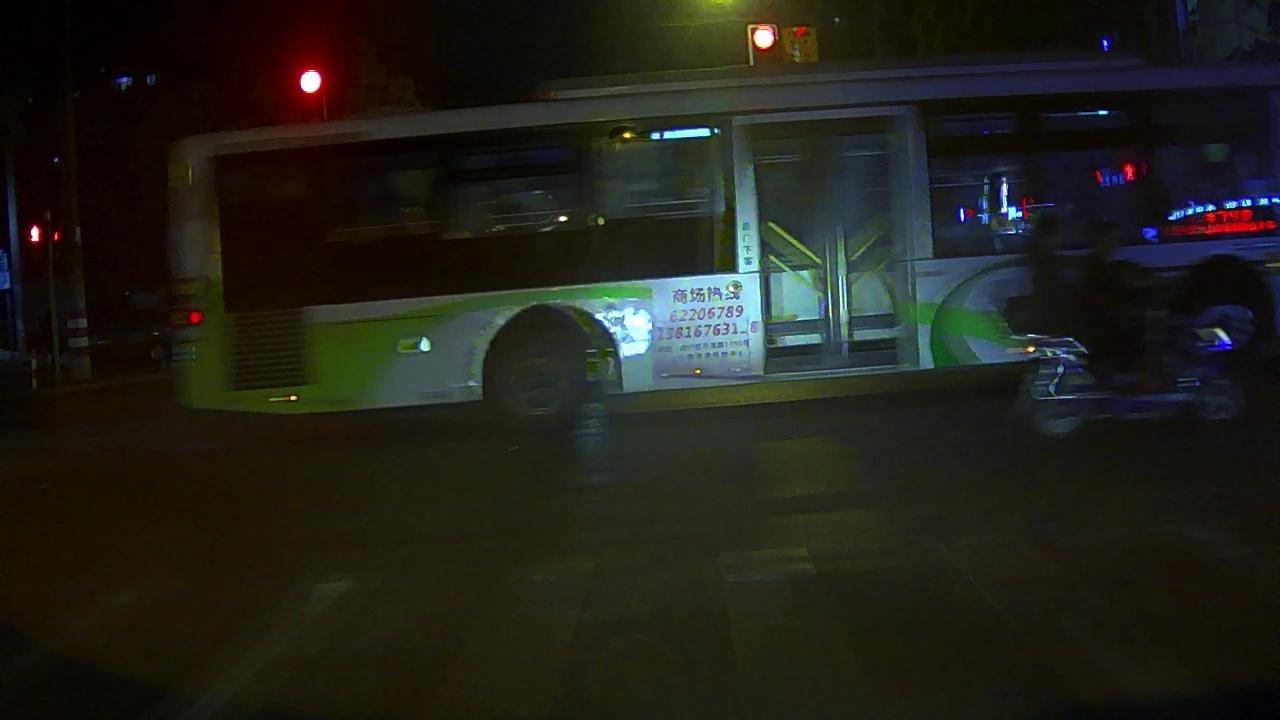traffic_light: (296, 66, 325, 122), (751, 25, 777, 66)
